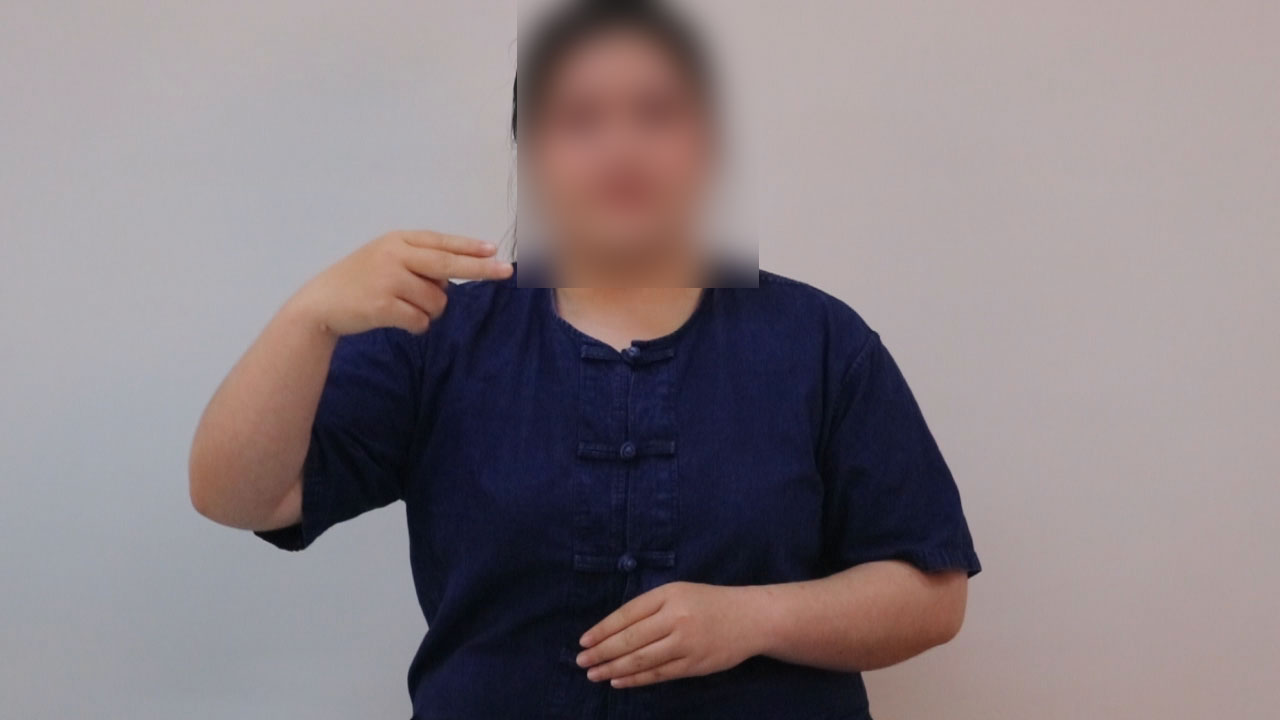hor: (278, 210, 524, 359)
